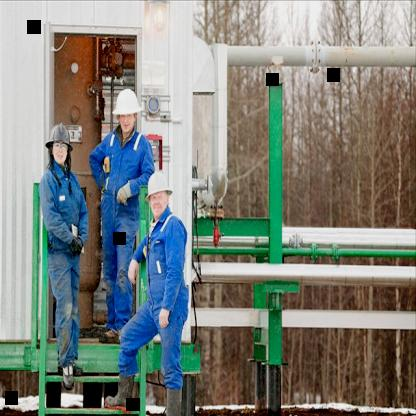helmet: (110, 84, 144, 139), (144, 164, 173, 218), (48, 122, 82, 166)
